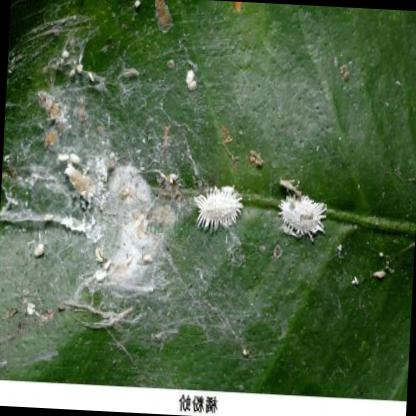mealy bug: (280, 195, 326, 238), (198, 186, 242, 225)
